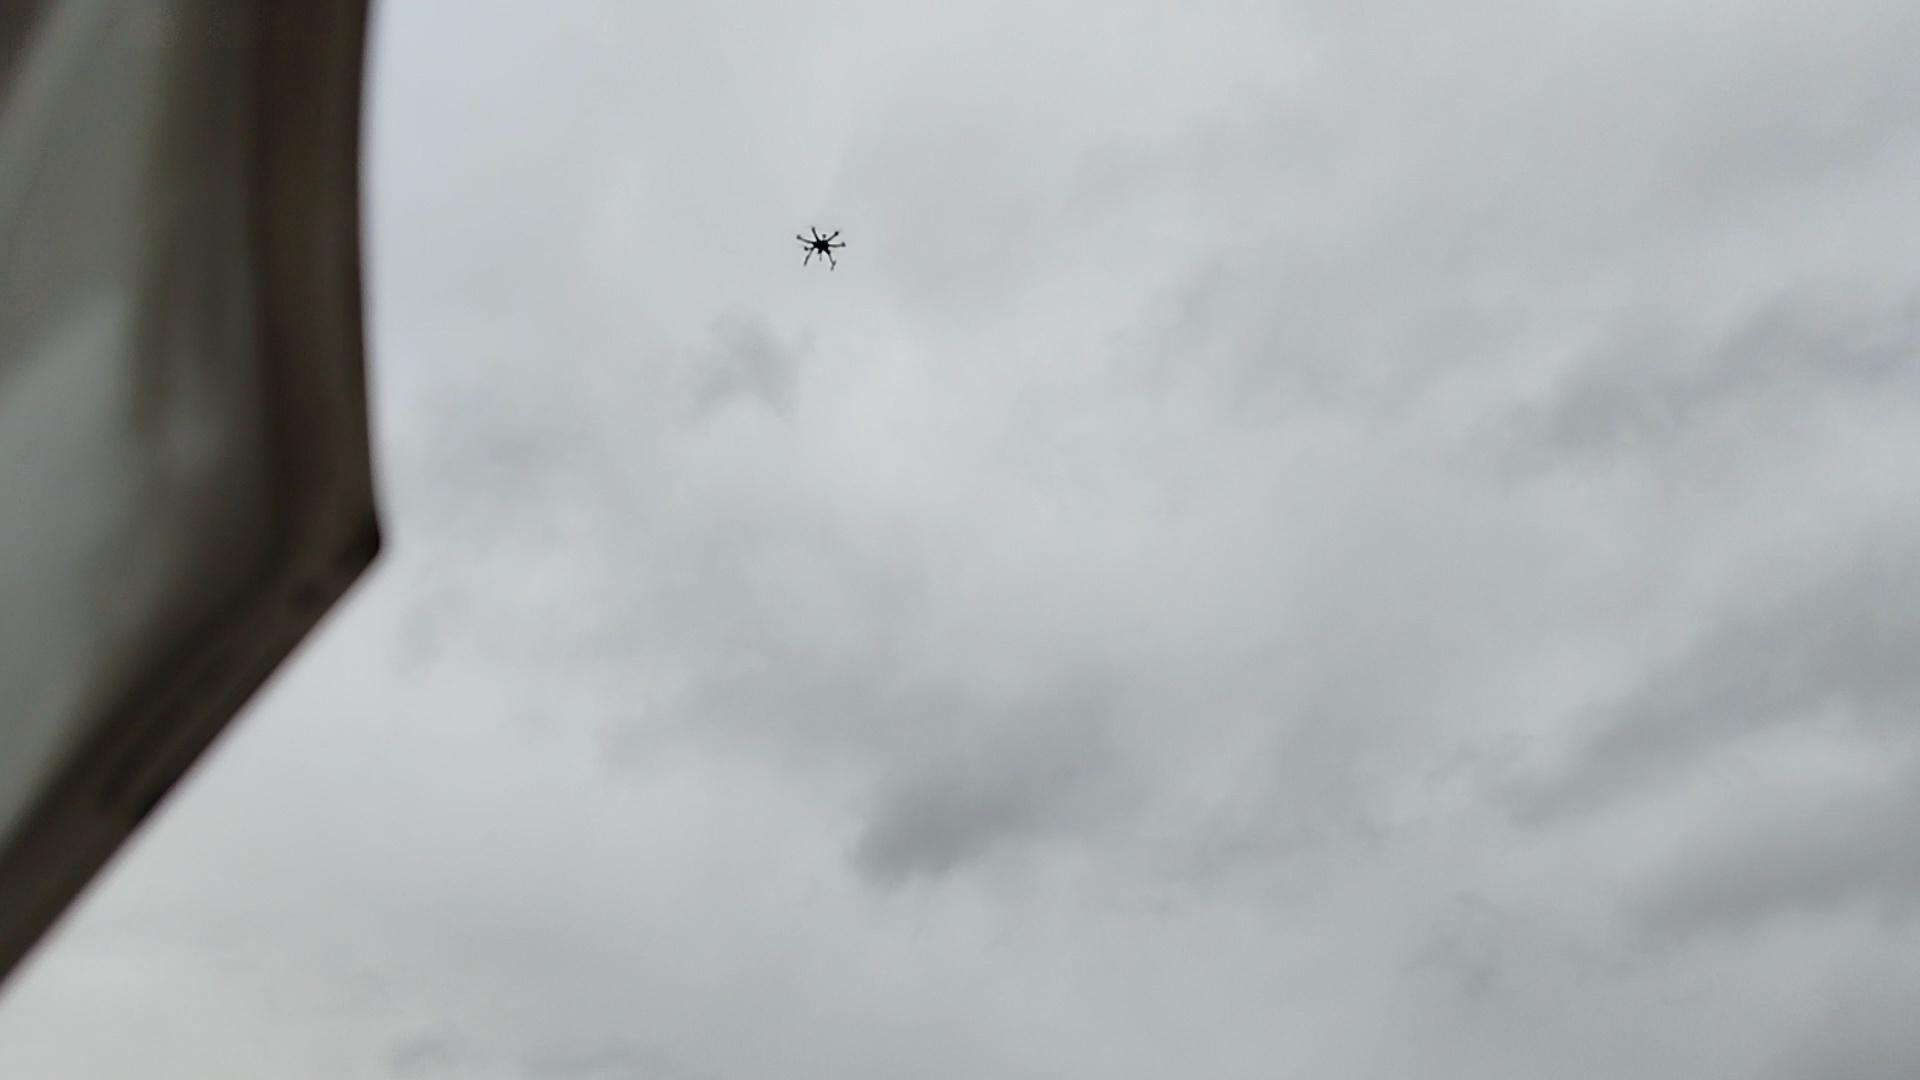drone: (791, 218, 852, 276)
